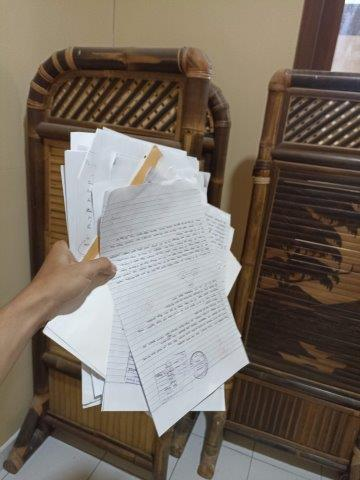kertas: (41, 126, 250, 436)
